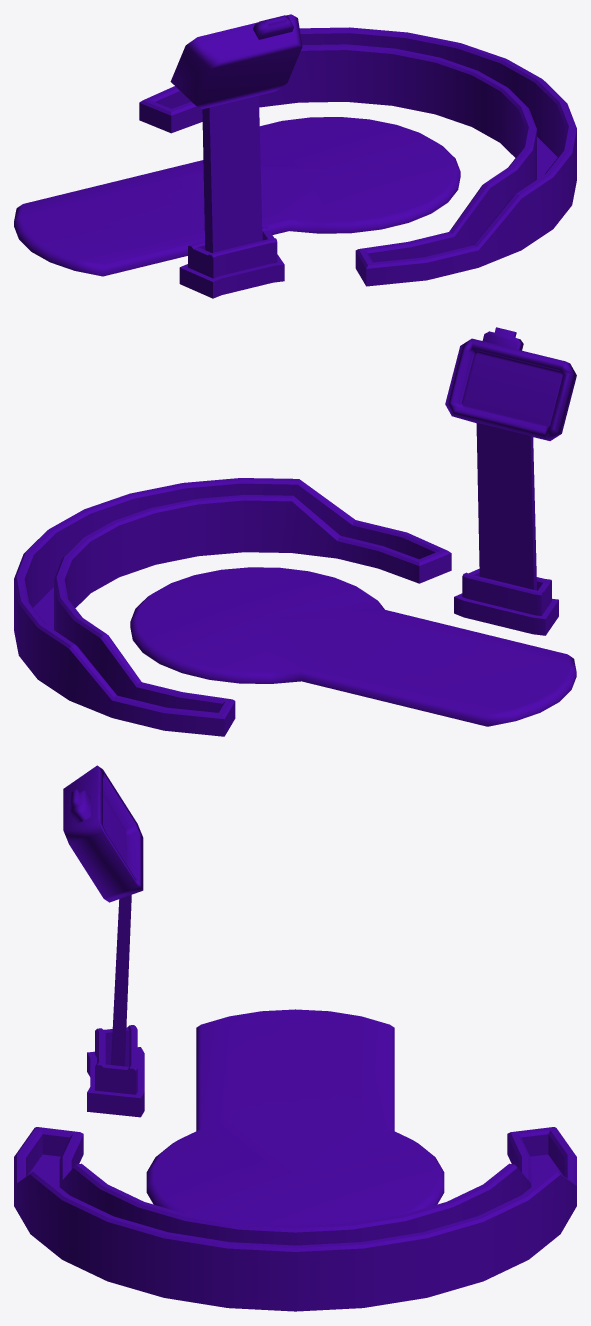
File: UI_SYNC_POINT.fbx
3 renders of one model, top to bottom at view 1: azimuth 30°, elevation 25°; view 2: azimuth 150°, elevation 25°; view 3: azimuth 270°, elevation 25°, orthographic. The views are drawn at different scales.
Parts seen in each view (by area): view 1: pCylinder5, pCylinder2, polySurface4, polySurface3, polySurface1, pCube11; view 2: pCylinder5, pCylinder2, polySurface3, polySurface4, polySurface1, pCube11; view 3: pCylinder5, pCylinder2, polySurface3, polySurface1, polySurface4.
Boxes of the visible parts, left/top/right/bottom form: pCylinder5: left=139, top=27, right=576, bottom=286; pCylinder2: left=14, top=117, right=460, bottom=276; polySurface4: left=202, top=95, right=262, bottom=252; polySurface3: left=170, top=14, right=302, bottom=109; polySurface1: left=179, top=226, right=284, bottom=298; pCube11: left=253, top=15, right=293, bottom=39; pCylinder5: left=14, top=478, right=451, bottom=736; pCylinder2: left=130, top=567, right=576, bottom=726; polySurface3: left=445, top=338, right=576, bottom=440; polySurface4: left=476, top=423, right=536, bottom=590; polySurface1: left=454, top=568, right=558, bottom=635; pCube11: left=482, top=327, right=523, bottom=350; pCylinder5: left=14, top=1127, right=576, bottom=1311; pCylinder2: left=146, top=1009, right=444, bottom=1225; polySurface3: left=63, top=765, right=143, bottom=902; polySurface1: left=87, top=1025, right=144, bottom=1117; polySurface4: left=111, top=895, right=131, bottom=1066.
Size of the model in its own units: 3.21 by 1.63 by 2.66.
